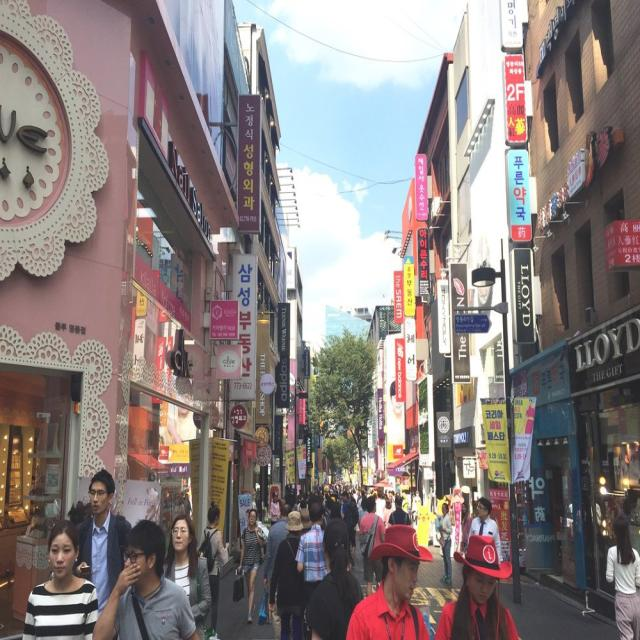body: (91, 517, 199, 640), (431, 529, 524, 639), (344, 523, 431, 640), (18, 515, 98, 639), (70, 467, 134, 616), (304, 517, 366, 639), (164, 514, 212, 640), (196, 499, 230, 639), (268, 509, 304, 640), (605, 514, 640, 640), (263, 504, 292, 640), (294, 500, 328, 607), (235, 506, 264, 626), (294, 472, 378, 510), (358, 494, 387, 599), (466, 496, 504, 564), (163, 372, 197, 447), (386, 377, 410, 471), (160, 478, 194, 534), (564, 492, 603, 536), (324, 500, 349, 559), (340, 489, 360, 560), (606, 485, 639, 528), (437, 501, 453, 585), (378, 468, 423, 497), (460, 501, 472, 588), (452, 487, 464, 558), (387, 494, 412, 526), (269, 490, 281, 526), (412, 490, 423, 528), (374, 487, 386, 520), (382, 497, 394, 528), (424, 484, 435, 517), (180, 493, 193, 520), (239, 503, 250, 532), (252, 482, 262, 508), (443, 492, 452, 518), (476, 498, 480, 508)
